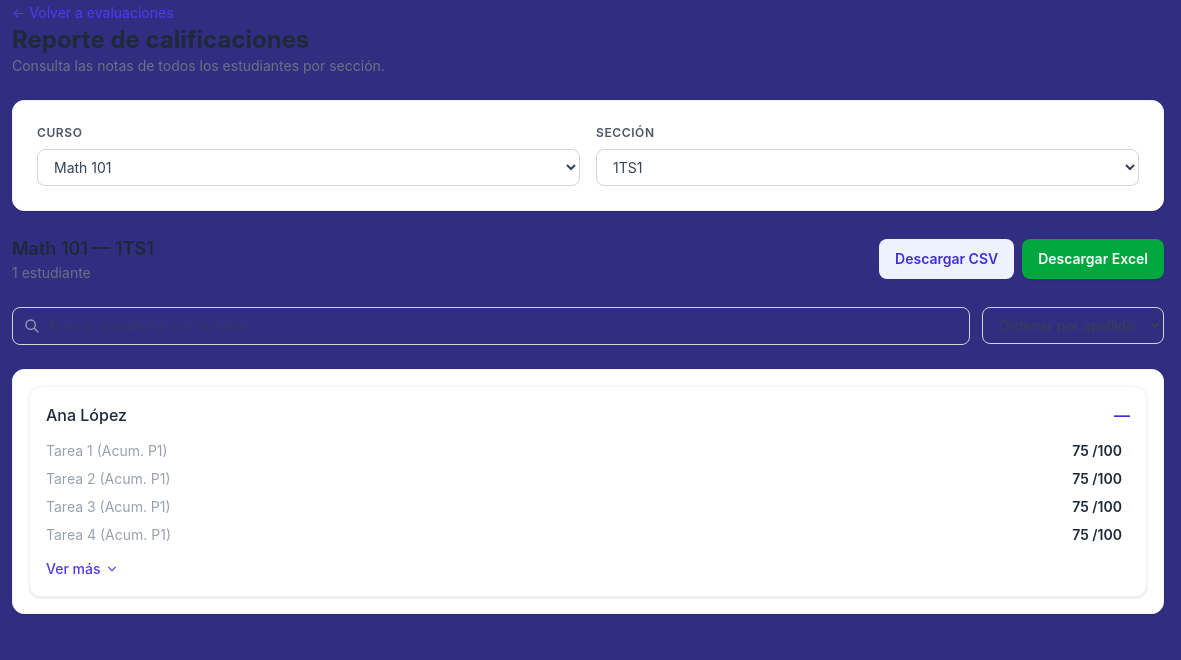
Test: GradesReportPage › en móvil muestra como máximo 4 asignaciones y permite ver las restantes
This screenshot has width=1181, height=660.
Expected: the text "Ana López" is shown, [46,405,127,425]
Expected: the text "Tarea 1 (Acum. P1)" is shown, [46,441,168,461]
Click the button "Ver más" at (83, 569), box [46,559,120,579]
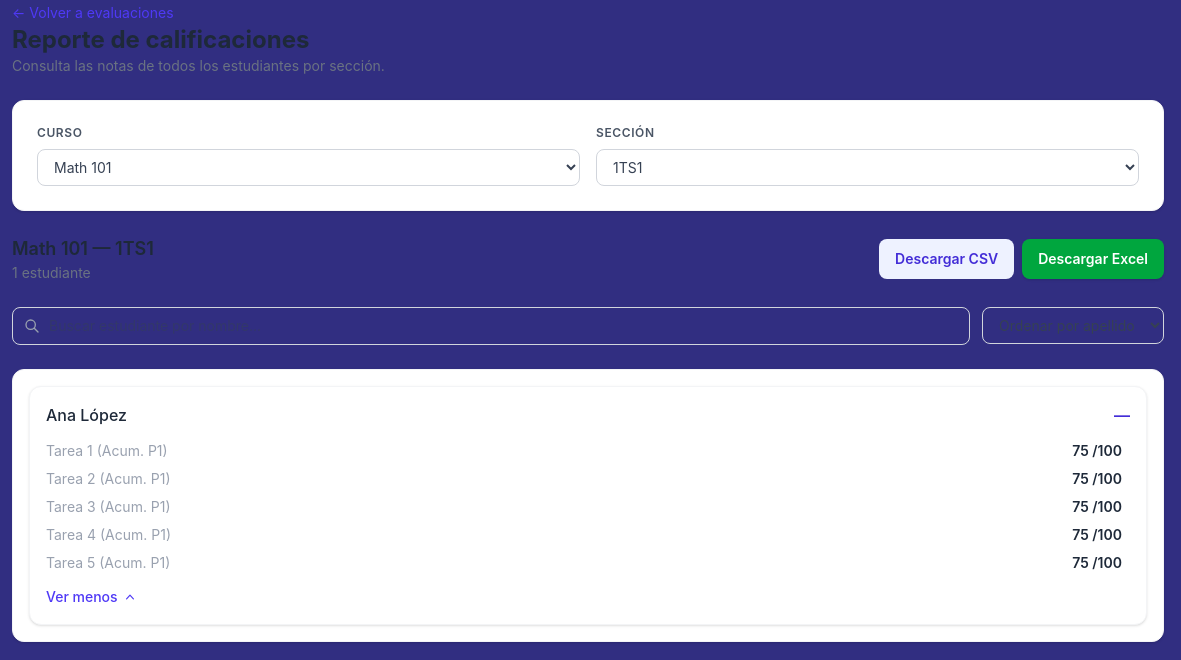
Now the text "Tarea 5 (Acum. P1)" is shown, box [46,553,170,573]
Now the button "Ver menos" is shown, box [46,587,138,607]
